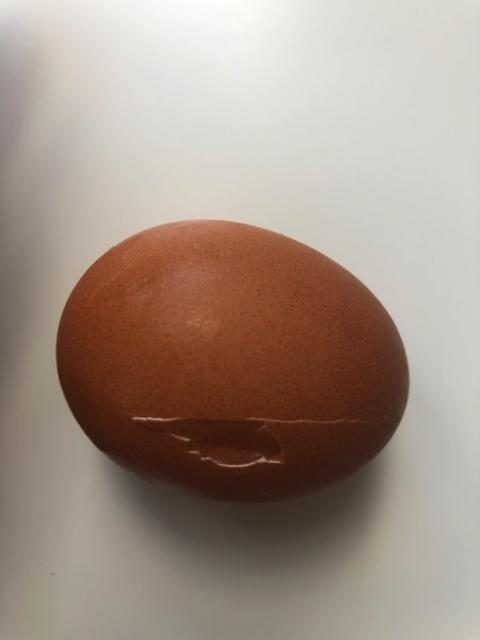Roto: (54, 217, 411, 503)
